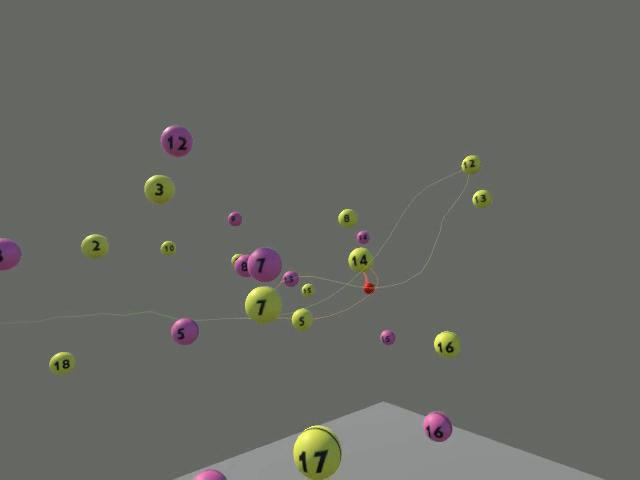ball_02_yellow: (81, 233, 108, 259)
ball_03_yellow: (144, 174, 174, 203)
ball_05_pink: (170, 317, 198, 344)
ball_05_yellow: (291, 308, 312, 330)
ball_07_pink: (247, 247, 282, 282)
ball_07_yellow: (244, 285, 281, 323)
ball_08_pink: (236, 256, 247, 277)
ball_08_yellow: (338, 208, 356, 228)
ball_09_pink: (227, 211, 242, 226)
ball_10_yellow: (160, 239, 175, 254)
ball_12_pink: (160, 124, 192, 157)
ball_12_yellow: (461, 153, 481, 173)
ball_13_pink: (282, 270, 298, 286)
ball_13_yellow: (472, 189, 491, 207)
ball_14_pink: (356, 230, 369, 244)
ball_14_yellow: (348, 247, 373, 272)
ball_15_pink: (379, 329, 395, 345)
ball_15_yellow: (301, 283, 314, 296)
ball_16_pink: (423, 410, 452, 441)
ball_16_yellow: (433, 330, 460, 358)
ball_17_yellow: (292, 425, 342, 479)
ball_18_yellow: (48, 351, 74, 374)
ball_unknown: (0, 238, 22, 270), (194, 468, 226, 479), (230, 252, 235, 272)
user_cursor: (363, 281, 375, 294)
